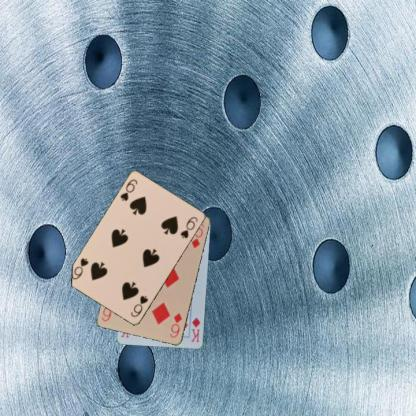6d: (168, 310, 183, 339)
6s: (118, 177, 139, 203), (128, 293, 149, 318)
Kd: (188, 315, 202, 343)
